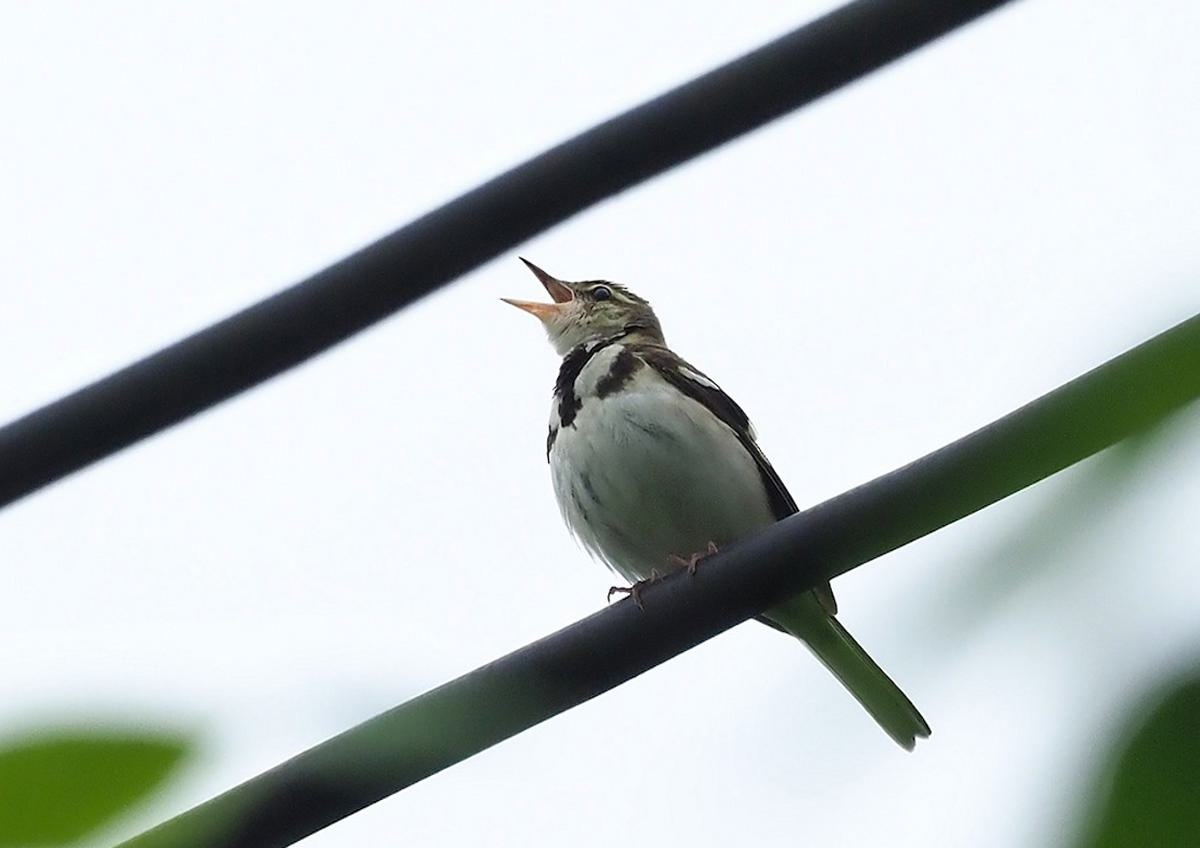wagtail: (501, 241, 943, 765)
